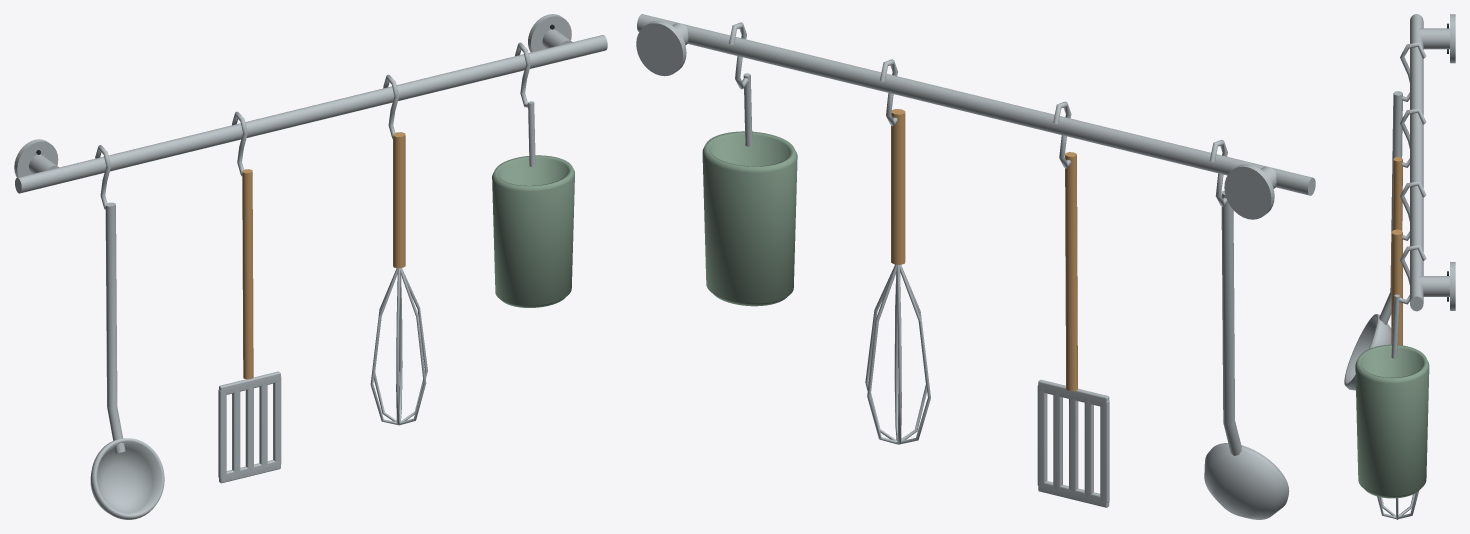
File: kitchen-utensil-rail.glb
The picture shows the model from 3 angles, left to right: view 1: azimuth 30°, elevation 25°; view 2: azimuth 150°, elevation 25°; view 3: azimuth 270°, elevation 25°; orthographic projection. The views are drawn at different scales.
Parts seen in each view (by area): view 1: kitchen-utensil-rail authored assembly; view 2: kitchen-utensil-rail authored assembly; view 3: kitchen-utensil-rail authored assembly.
Boxes of the visible parts, x1,y1,x2,y2 form: kitchen-utensil-rail authored assembly: (14, 14, 607, 519); kitchen-utensil-rail authored assembly: (636, 14, 1315, 519); kitchen-utensil-rail authored assembly: (1344, 14, 1455, 519).
Bounding box in the file's own units: 0.6 × 0.35 × 0.1.
